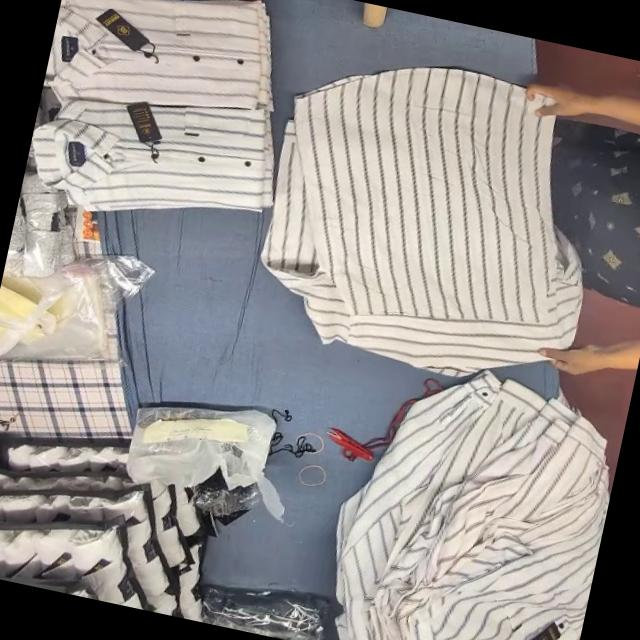new-garment: (262, 68, 581, 372)
